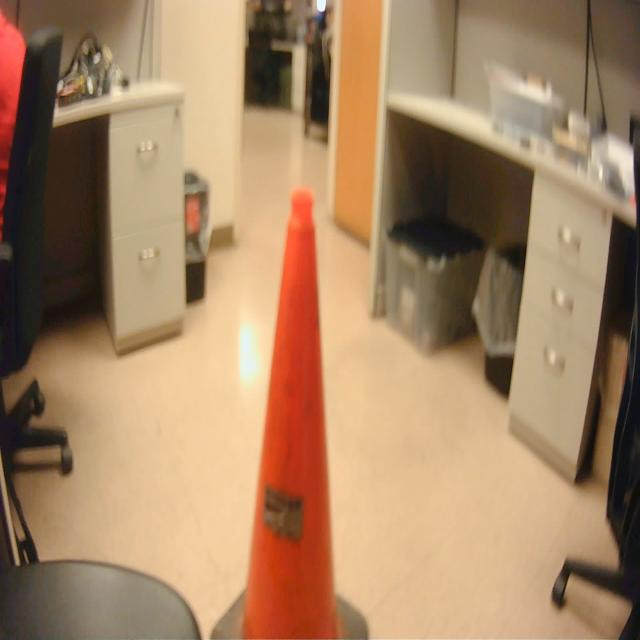traffic cone: (206, 182, 374, 640)
